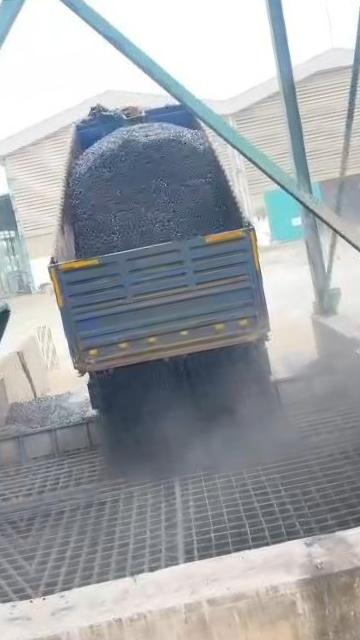gravel: (68, 124, 242, 258), (100, 340, 278, 460), (6, 392, 92, 433)
